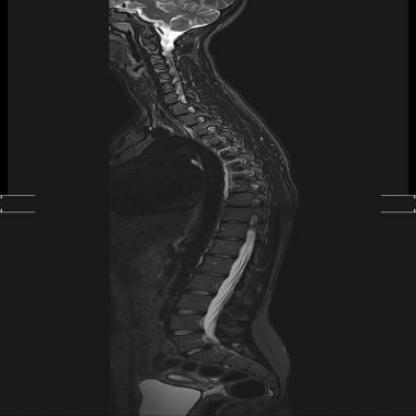Disc Bulgerotation: (224, 202, 255, 212), (226, 187, 256, 197), (219, 216, 249, 226), (155, 67, 168, 77)
